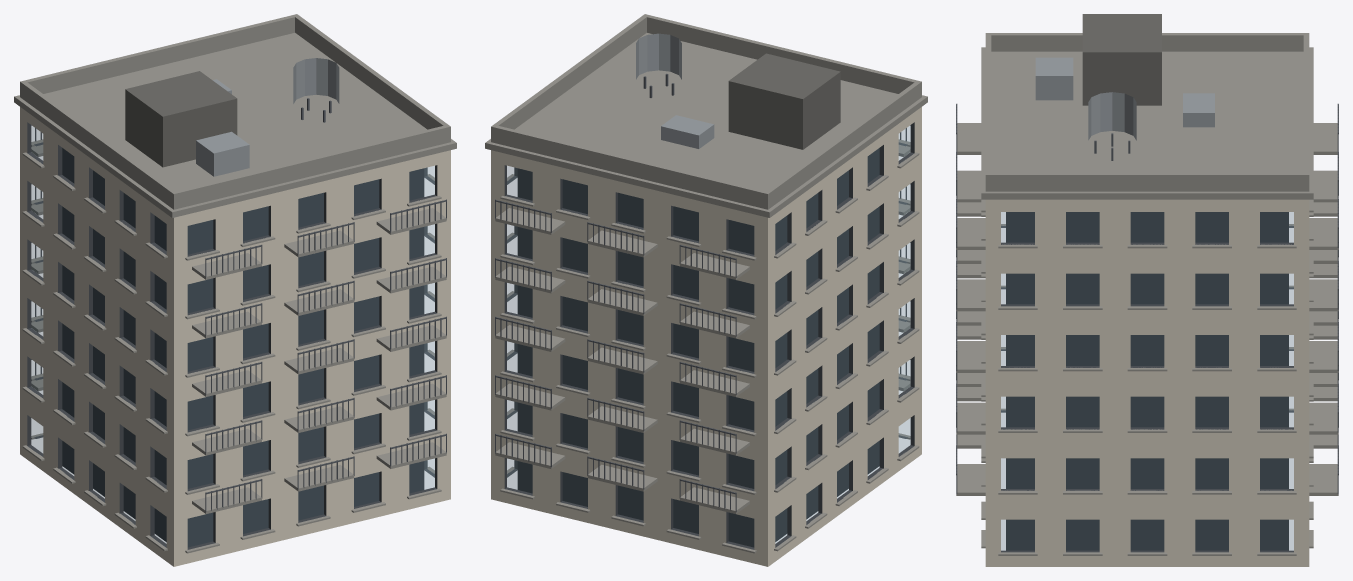
File: apartment-3.glb
3 views of the same model, side by side, from view 1: azimuth 30°, elevation 25°; view 2: azimuth 150°, elevation 25°; view 3: azimuth 270°, elevation 25° (orthographic). The views are drawn at different scales.
Parts seen in each view (by area): view 1: apartment-3; view 2: apartment-3; view 3: apartment-3.
Boxes of the visible parts, box(x1,y1,x2,y2) form: apartment-3: box(14, 14, 456, 566); apartment-3: box(485, 14, 927, 566); apartment-3: box(956, 14, 1338, 566).
Size of the model in its own units: 15.26 by 20.9 by 16.91.
